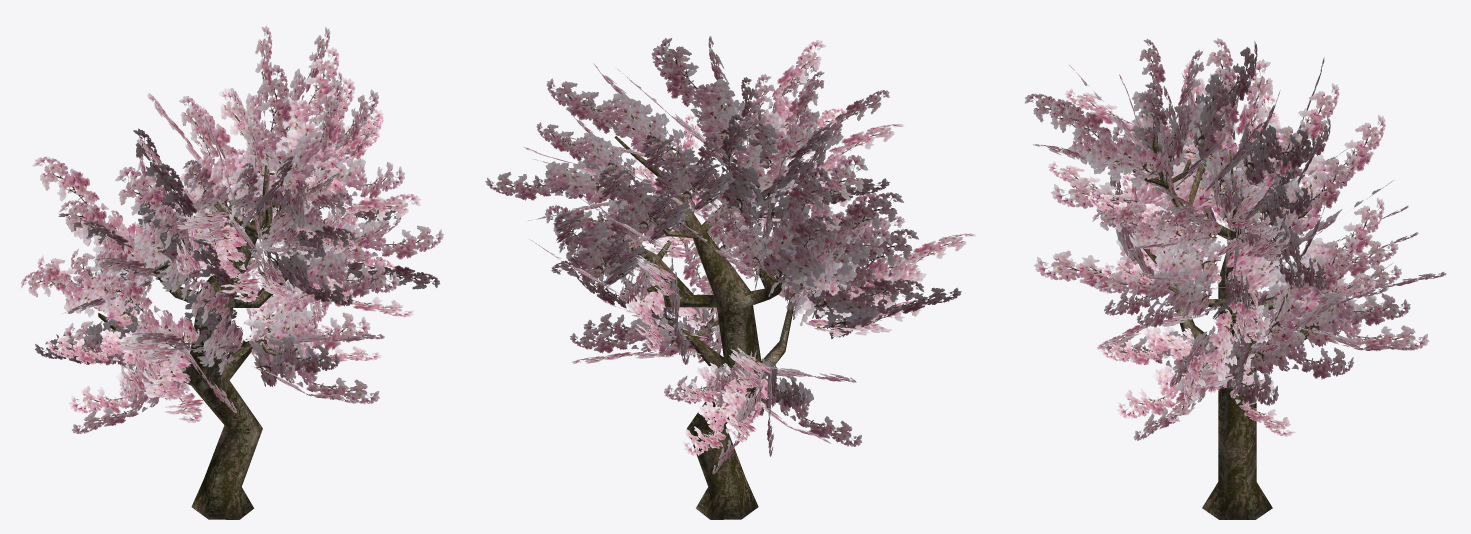
File: CherryBlossomTree.fbx
The picture shows the model from 3 angles, left to right: view 1: azimuth 30°, elevation 25°; view 2: azimuth 150°, elevation 25°; view 3: azimuth 270°, elevation 25°; orthographic projection. The views are drawn at different scales.
Parts seen in each view (by area): view 1: CherryLeaves.009, trunk; view 2: CherryLeaves.009, trunk; view 3: CherryLeaves.009, trunk.
Boxes of the visible parts, x1=… form: CherryLeaves.009: x1=20, y1=25, x2=443, y2=433; trunk: x1=98, y1=165, x2=309, y2=519; CherryLeaves.009: x1=485, y1=36, x2=975, y2=474; trunk: x1=602, y1=113, x2=805, y2=519; CherryLeaves.009: x1=1024, y1=38, x2=1446, y2=440; trunk: x1=1132, y1=125, x2=1348, y2=519.
Bounding box in the file's own units: 587 × 644 × 516.
Materials: 2 (2 with a texture image).
